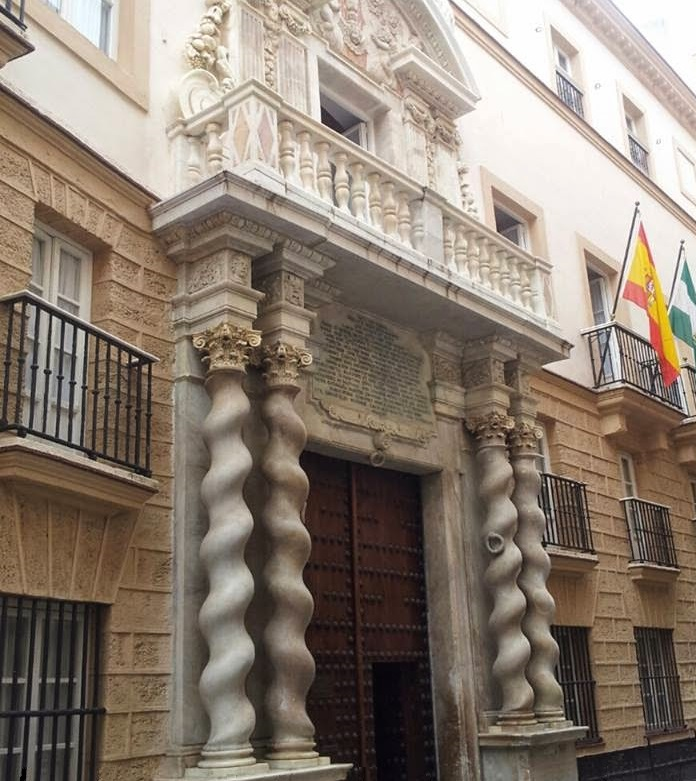columna-salomonica: (193, 335, 258, 771), (258, 348, 320, 766), (470, 421, 536, 722), (509, 446, 565, 720)
